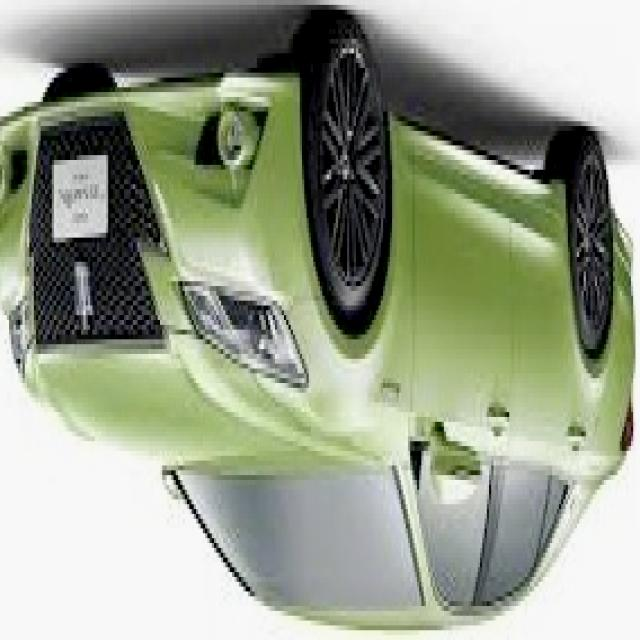green: (5, 0, 640, 626)
